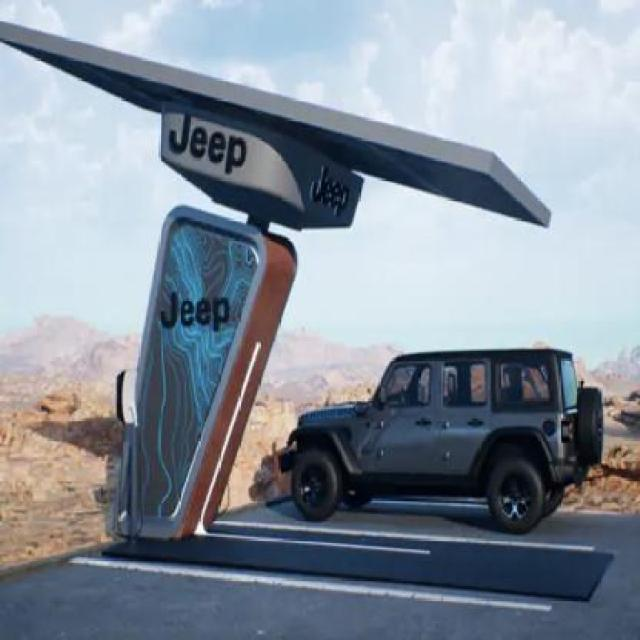Jeep: (276, 347, 604, 521)
